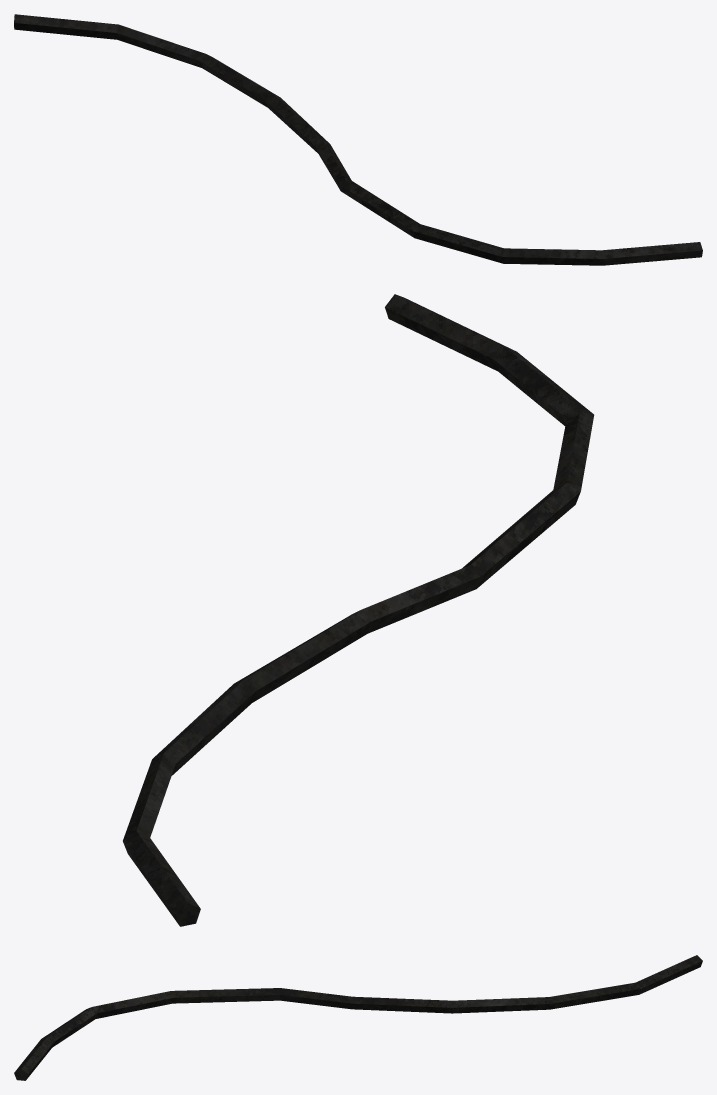
Rendered from Cable_2.glb.
3 views of the same model, one above another, from view 1: azimuth 30°, elevation 25°; view 2: azimuth 150°, elevation 25°; view 3: azimuth 270°, elevation 25° (orthographic). The views are drawn at different scales.
Parts seen in each view (by area): view 1: Cable 2; view 2: Cable 2; view 3: Cable 2.
Part boxes in pixels (left/top/right/bottom): Cable 2: left=14, top=14, right=702, bottom=265; Cable 2: left=123, top=294, right=594, bottom=926; Cable 2: left=14, top=955, right=702, bottom=1080.
Bounding box in the file's own units: 3.45 × 0.1517 × 8.61.
1 material, 1 textured.
